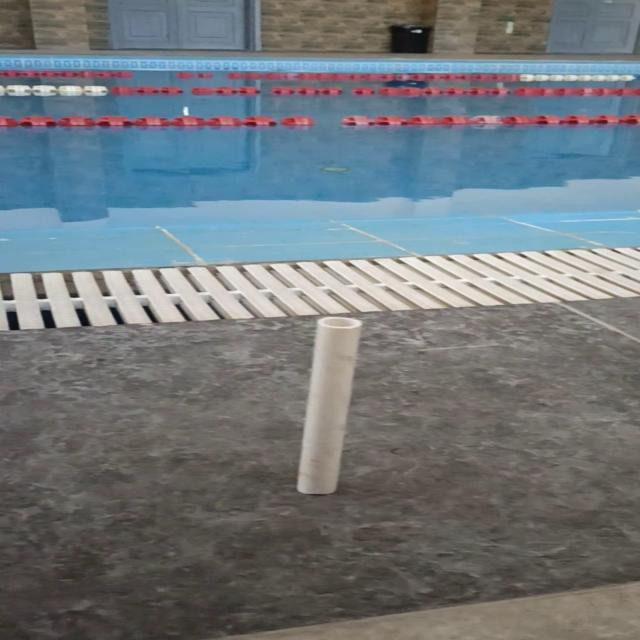Cube: (294, 316, 362, 494)
